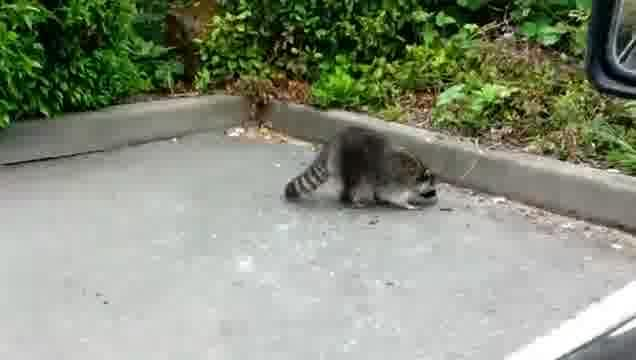raccoon: (283, 125, 443, 215)
